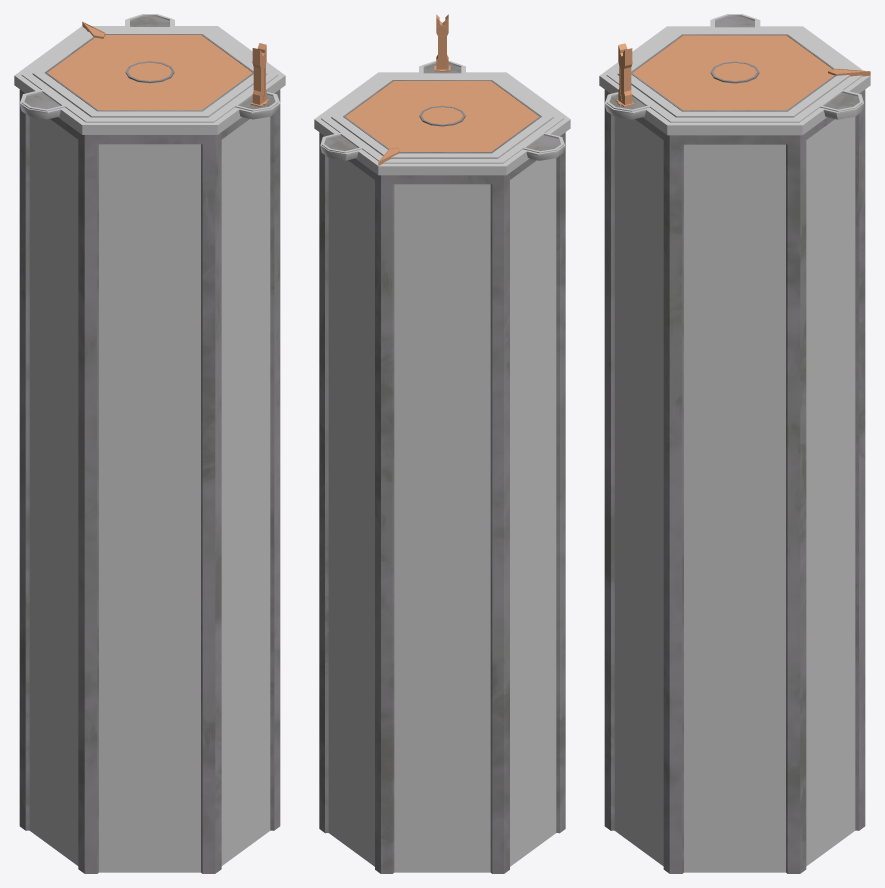
Rendered from (dontuse)Pedestal_A.fbx.
3 views of the same model, side by side, from view 1: azimuth 30°, elevation 25°; view 2: azimuth 150°, elevation 25°; view 3: azimuth 270°, elevation 25° (orthographic). The views are drawn at different scales.
Parts seen in each view (by area): view 1: Pedestal_A, Pedestal_Pillars.001, Pedestal_A.002, Pedestal_A.003; view 2: Pedestal_A, Pedestal_A.002, Pedestal_A.001, Pedestal_Pillars.001; view 3: Pedestal_A, Pedestal_Pillars.001, Pedestal_A.001, Pedestal_A.003, Pedestal_A.002.
Part boxes in pixels (box(x1,y1,x2,y2)): Pedestal_A: box(14, 24, 285, 873); Pedestal_Pillars.001: box(250, 43, 269, 106); Pedestal_A.002: box(20, 91, 60, 119); Pedestal_A.003: box(239, 92, 280, 119); Pedestal_A: box(314, 71, 570, 873); Pedestal_A.002: box(526, 134, 565, 160); Pedestal_A.001: box(320, 134, 358, 160); Pedestal_Pillars.001: box(434, 14, 450, 71); Pedestal_A: box(599, 25, 870, 873); Pedestal_Pillars.001: box(615, 43, 634, 107); Pedestal_A.001: box(824, 91, 863, 119); Pedestal_A.003: box(604, 92, 645, 119); Pedestal_A.002: box(710, 14, 760, 26).
Size of the model in its own units: 3996 by 13540 by 4125.
